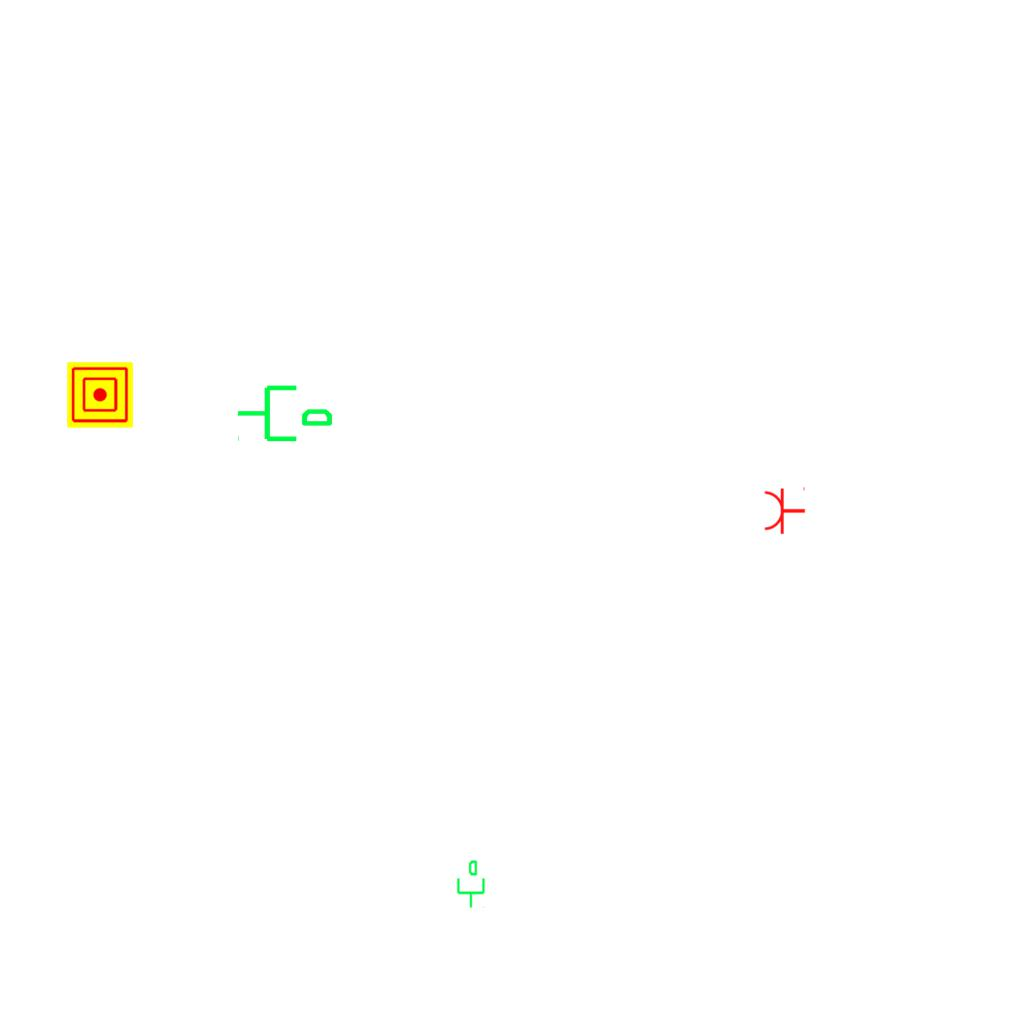Datenanschluss_einfach: (235, 377, 335, 446), (453, 859, 487, 909)
NAM-Nichtautomatischer_Melder: (67, 362, 133, 428)
Schukosteckdose_einfach: (763, 485, 806, 535)
